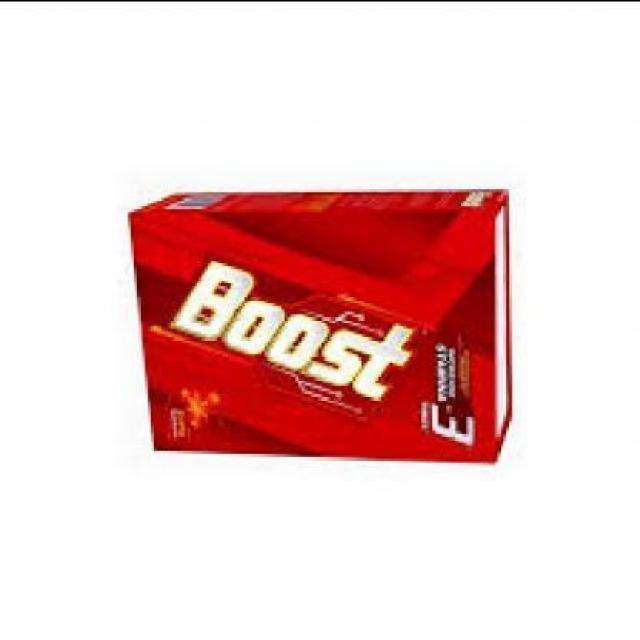box: (134, 188, 515, 459)
